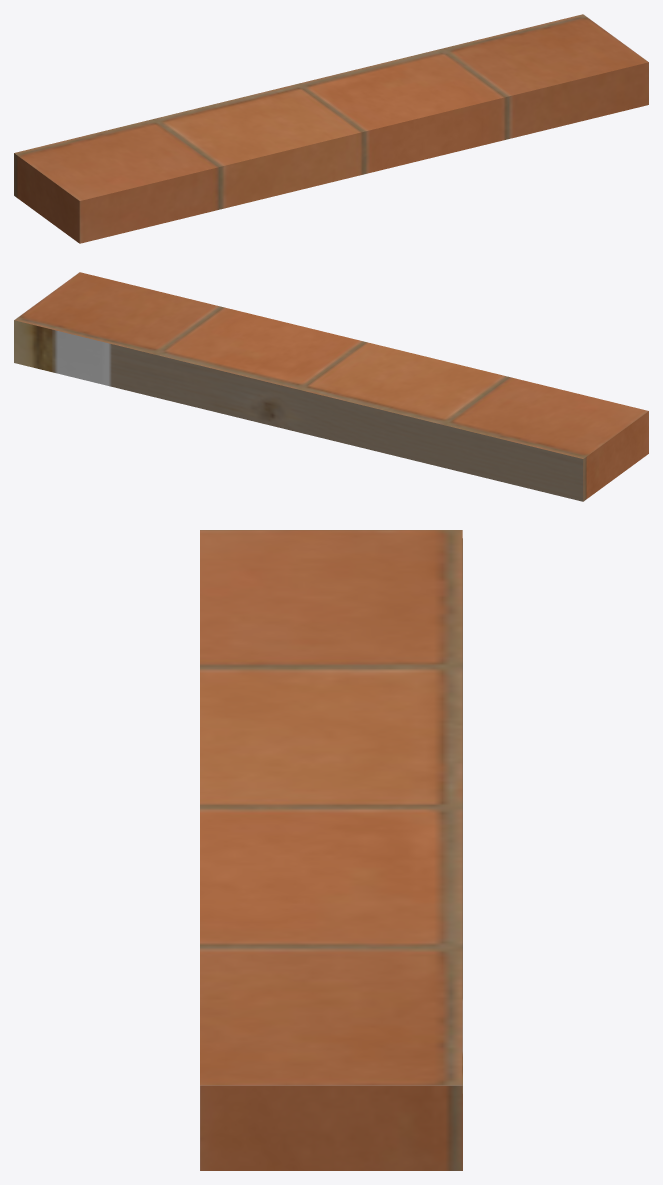
Rendered from iç kapı girişi yeni.fbx.
3 renders of one model, top to bottom at view 1: azimuth 30°, elevation 25°; view 2: azimuth 150°, elevation 25°; view 3: azimuth 270°, elevation 25°, orthographic. The views are drawn at different scales.
Parts seen in each view (by area): view 1: Plane.083; view 2: Plane.083; view 3: Plane.083.
Boxes of the visible parts, x1,y1,x2,y2 form: Plane.083: (14, 14, 648, 243); Plane.083: (14, 272, 648, 501); Plane.083: (200, 530, 462, 1170).
Bounding box in the file's own units: 100 × 7.17 × 20.01.
1 material, 1 textured.
